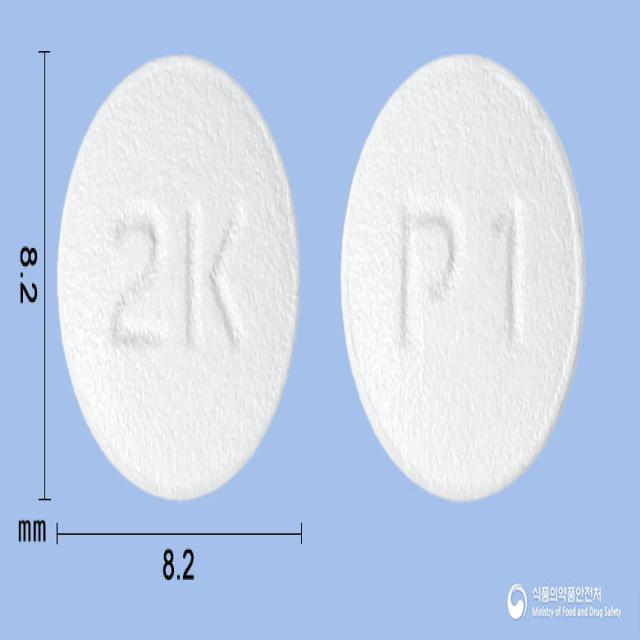Letroxin: (58, 51, 302, 505), (340, 59, 586, 503)
